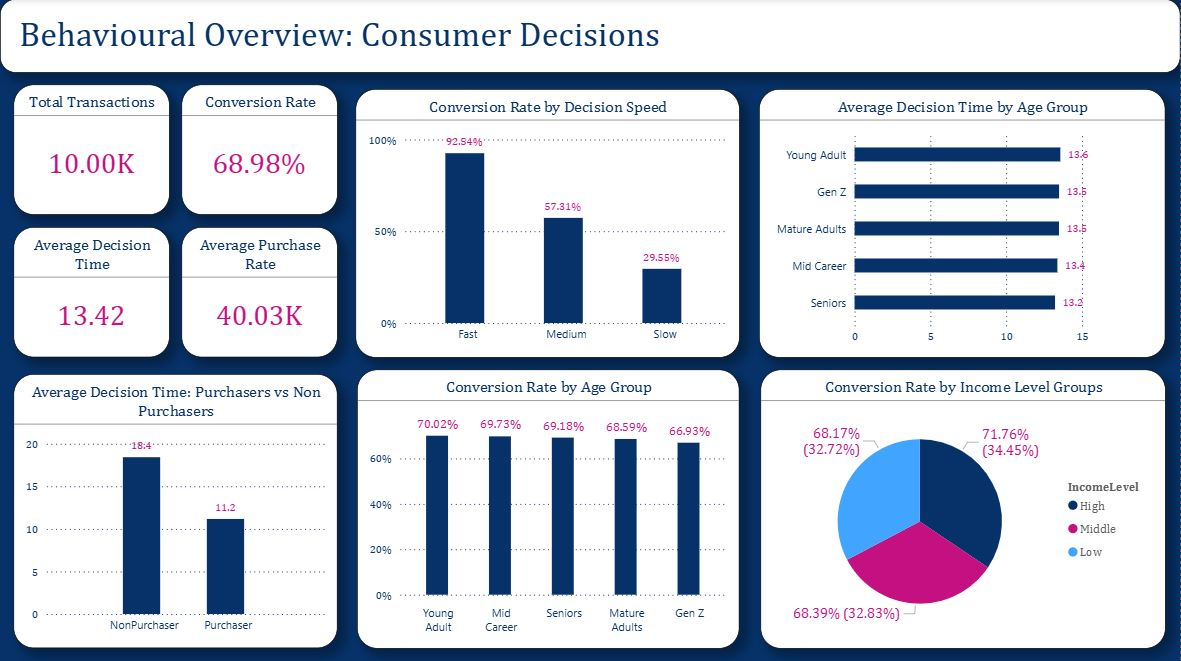

The dashboard page shown, as its layout file describes it:
{"tool":"powerbi","page":{"name":"Behavioural Overview: Consumer Decisions","canvas":[1280,720],"ordinal":0},"visuals":[{"type":"textbox","box":[0,0,1280.1,79.7],"z":0},{"type":"card","title":"Total Transactions","fields":{"Values":["CountNonNull(consumer_behavior_master_clustered.TransactionID)"]},"box":[14.6,92.7,169.2,141.5],"z":1000},{"type":"card","title":"Conversion Rate","fields":{"Values":["consumer_behavior_master_clustered.Conversion Rate"]},"box":[196.8,92.7,169.2,141.5],"z":2000},{"type":"card","title":"Average Decision Time","fields":{"Values":["consumer_behavior_master_clustered.Average Decison Time"]},"box":[14.6,247.2,169.2,141.5],"z":3000},{"type":"card","title":"Average Purchase Rate","fields":{"Values":["consumer_behavior_master_clustered.Avg Purchase Value"]},"box":[196.8,247.2,169.2,141.5],"z":4000},{"type":"clusteredColumnChart","title":"Conversion Rate by Decision Speed","fields":{"Y":["consumer_behavior_master_clustered.Conversion Rate"],"Category":["consumer_behavior_master_clustered.Decision_Speed"]},"box":[385.5,97.6,416.4,291.2],"z":5000},{"type":"clusteredBarChart","title":"Average Decision Time by Age Group","fields":{"Category":["consumer_behavior_master_clustered.Age_Group"],"Y":["consumer_behavior_master_clustered.Average Decison Time"]},"box":[823,97.6,440.8,291.2],"z":6000},{"type":"clusteredColumnChart","title":"Conversion Rate by Age Group","fields":{"Category":["consumer_behavior_master_clustered.Age_Group"],"Y":["consumer_behavior_master_clustered.Conversion Rate"]},"box":[387.1,401.8,414.8,302.5],"z":7000},{"type":"pieChart","title":"Conversion Rate by Income Level Groups","fields":{"Category":["consumer_behavior_master_clustered.IncomeLevel"],"Y":["consumer_behavior_master_clustered.Conversion Rate"]},"box":[824.7,401.8,439.2,302.5],"z":8000},{"type":"clusteredColumnChart","title":"Average Decision Time: Purchasers vs Non Purchasers","fields":{"Y":["Avg(consumer_behavior_master_clustered.DecisionTimeMinutes)"],"Category":["consumer_behavior_master_clustered.Purchaser-NonPurchaser"]},"box":[14.6,406.6,351.3,297.7],"z":9000}]}

Visuals, with their boxes in screenshot pixels (x1, y1, x2, y2), scaled from the page's 1280x720 canvas onto the 1181x661 screenshot:
textbox: [x1=0, y1=0, x2=1180, y2=73]
"Total Transactions" card: [x1=13, y1=85, x2=170, y2=215]
"Conversion Rate" card: [x1=182, y1=85, x2=338, y2=215]
"Average Decision Time" card: [x1=13, y1=227, x2=170, y2=357]
"Average Purchase Rate" card: [x1=182, y1=227, x2=338, y2=357]
"Conversion Rate by Decision Speed" clusteredColumnChart: [x1=356, y1=90, x2=740, y2=357]
"Average Decision Time by Age Group" clusteredBarChart: [x1=759, y1=90, x2=1166, y2=357]
"Conversion Rate by Age Group" clusteredColumnChart: [x1=357, y1=369, x2=740, y2=647]
"Conversion Rate by Income Level Groups" pieChart: [x1=761, y1=369, x2=1166, y2=647]
"Average Decision Time: Purchasers vs Non Purchasers" clusteredColumnChart: [x1=13, y1=373, x2=338, y2=647]
